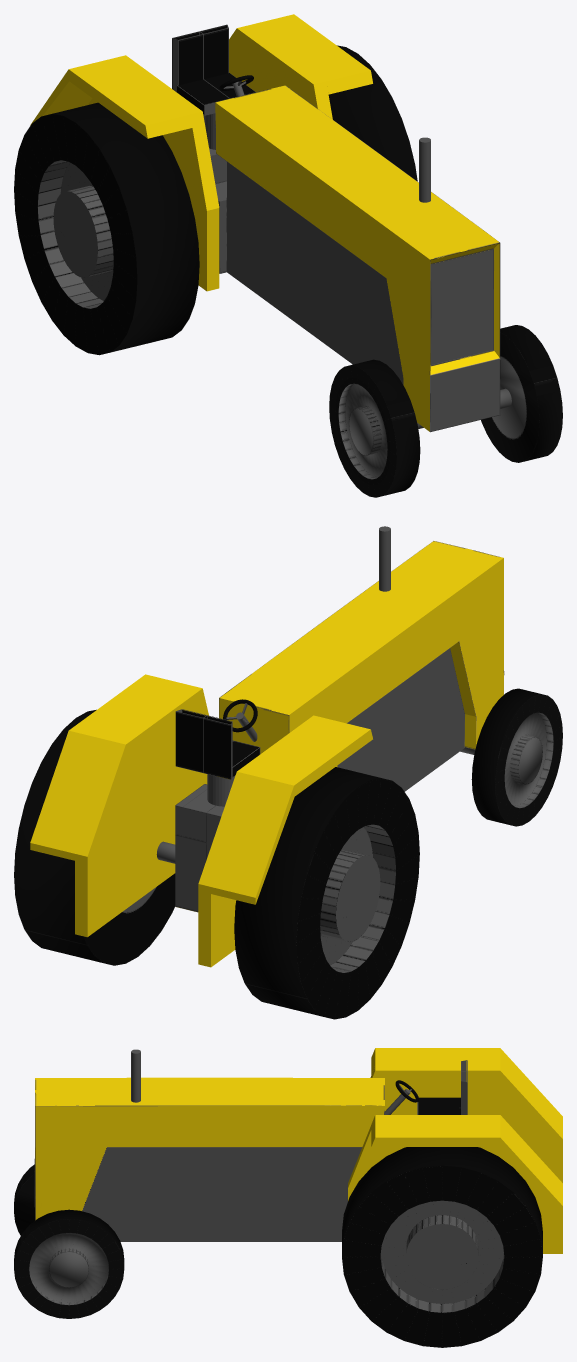
File: tractor.fbx
3 renders of one model, top to bottom at view 1: azimuth 30°, elevation 25°; view 2: azimuth 150°, elevation 25°; view 3: azimuth 270°, elevation 25°, orthographic. The views are drawn at different scales.
Visible parts, largest first — view 1: Cube; view 2: Cube; view 3: Cube.
Part boxes in pixels (<box>): Cube: <box>14,14,562,497</box>; Cube: <box>14,526,562,1019</box>; Cube: <box>14,1048,562,1347</box>.
Bounding box in the file's own units: 161 × 166 × 333.
